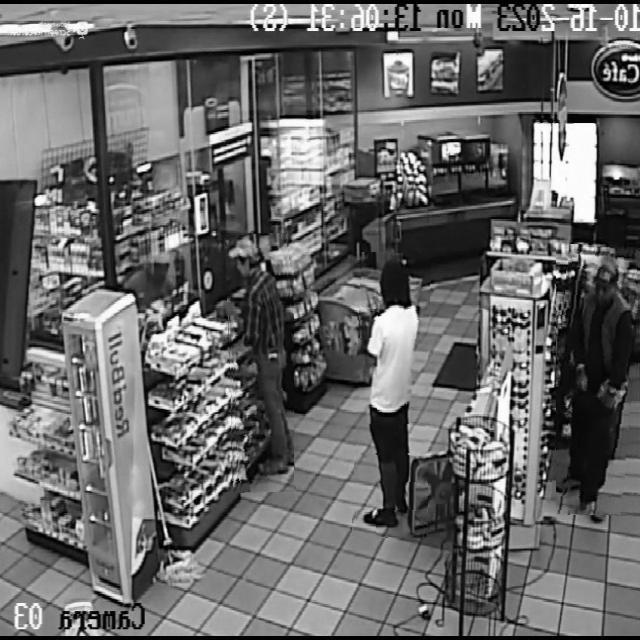Normal: (556, 245, 640, 515), (354, 252, 428, 538), (227, 233, 294, 492)
